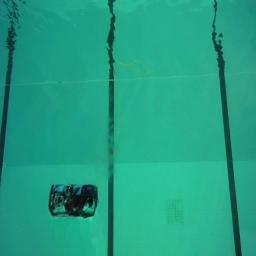front: (48, 183, 97, 219)
